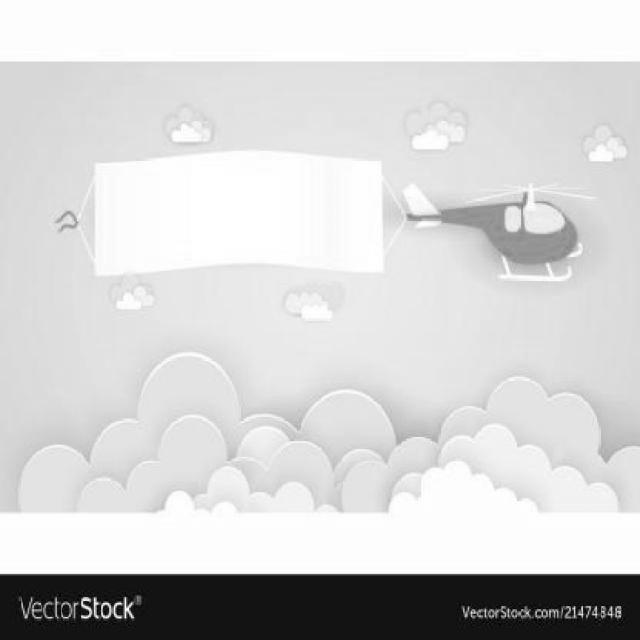helikopter: (397, 172, 606, 300)
